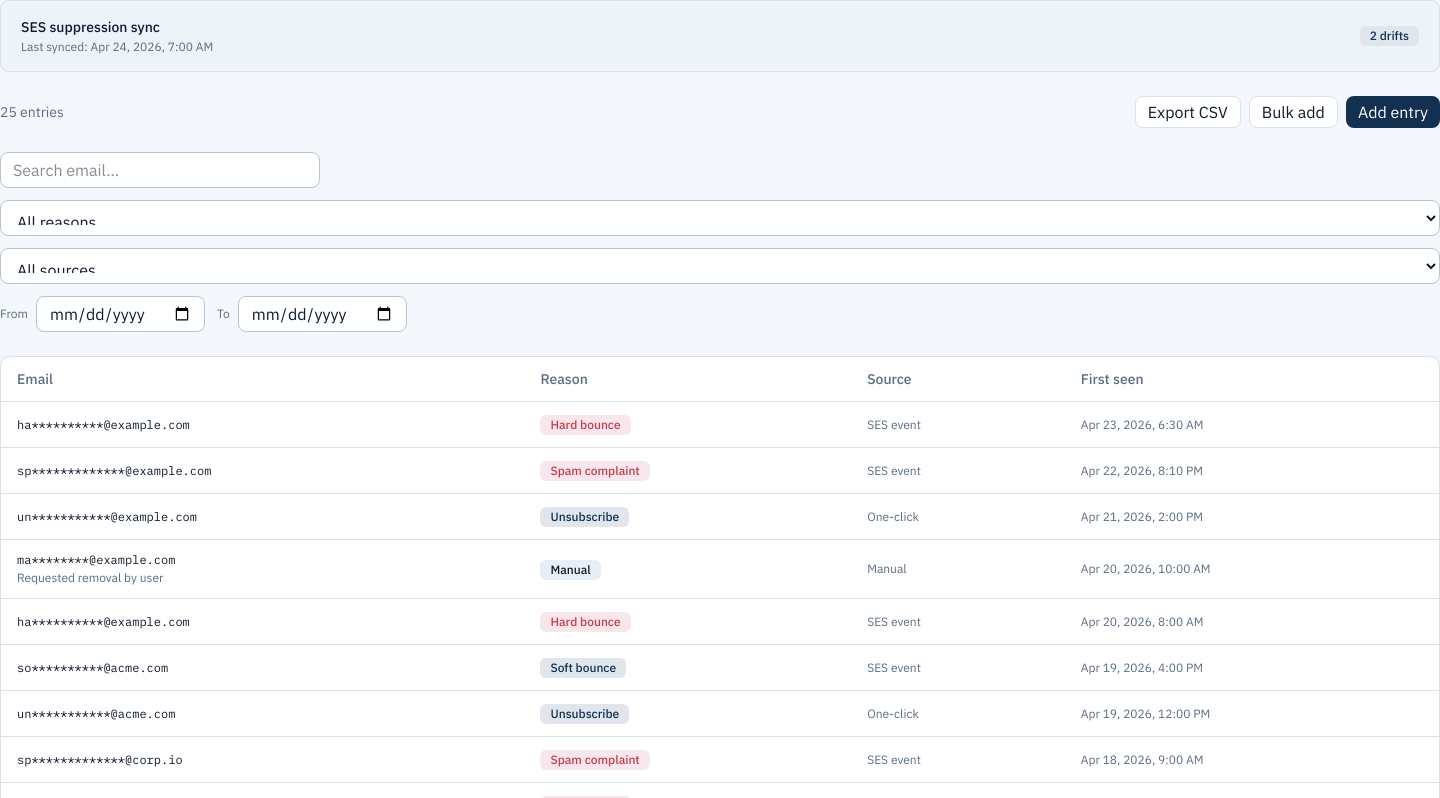
it: SuppressionManager › search by email narrows results
Type "acme.com" into the search field named "Search by email".
click(160, 170); type("acme.com")  # box x1=0 y1=152 x2=320 y2=188
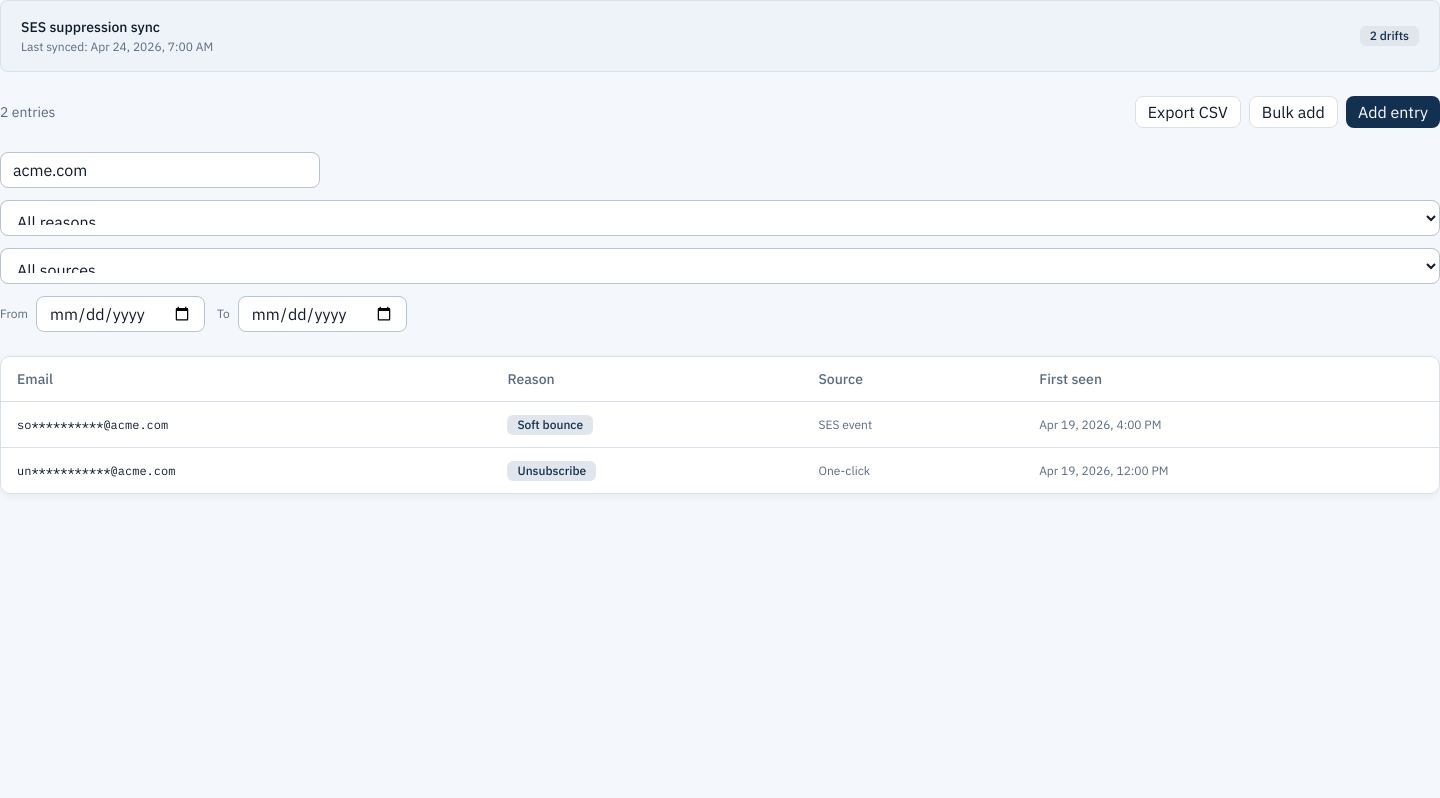
expect the text "2 entries" is shown: met, box x1=0 y1=102 x2=55 y2=122
